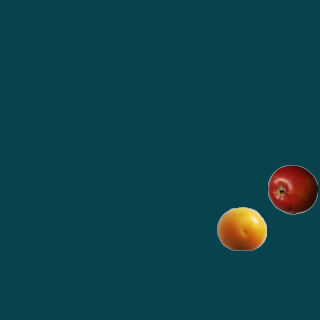Apple Braeburn: (267, 164, 317, 214)
Cherry Wax Yellow: (216, 203, 266, 253)
